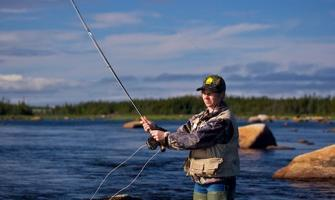person: (140, 76, 240, 200)
